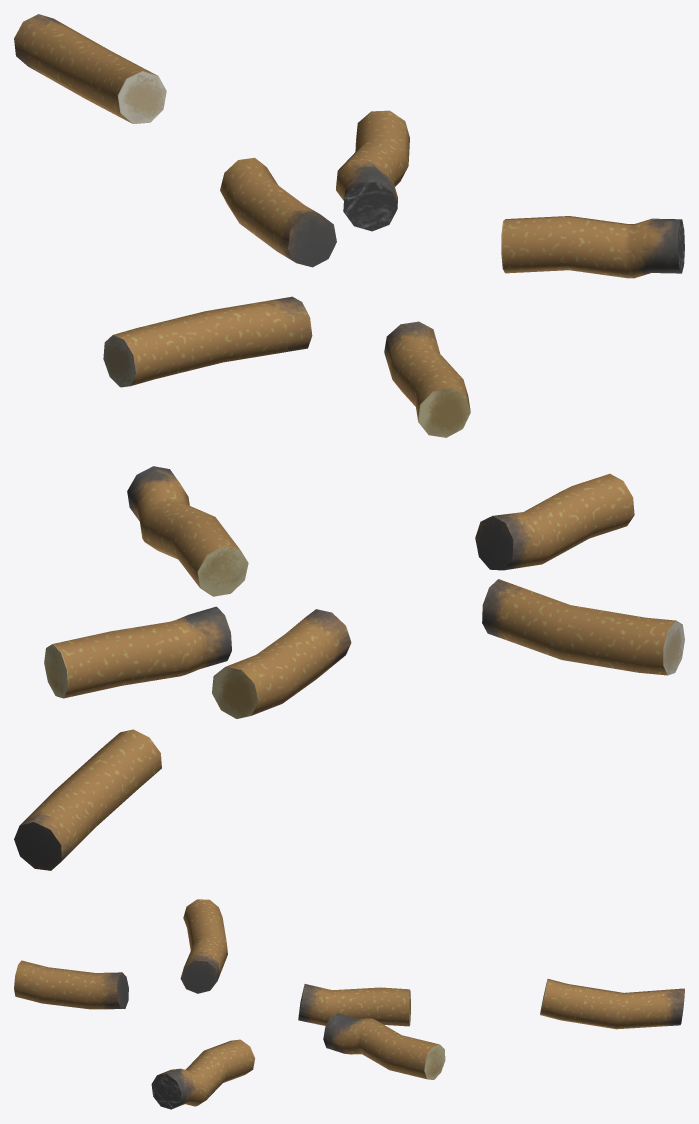
File: SM_Cigarette_Butts.fbx
The picture shows the model from 3 angles, top to bottom: view 1: azimuth 30°, elevation 25°; view 2: azimuth 150°, elevation 25°; view 3: azimuth 270°, elevation 25°; orthographic projection. The views are drawn at different scales.
Parts seen in each view (by area): view 1: SM_Cigarette_Butts_LOD0; view 2: SM_Cigarette_Butts_LOD0; view 3: SM_Cigarette_Butts_LOD0.
Boxes of the visible parts, box(x1,y1,x2,y2) form: SM_Cigarette_Butts_LOD0: box(14, 14, 684, 437); SM_Cigarette_Butts_LOD0: box(14, 466, 684, 870); SM_Cigarette_Butts_LOD0: box(14, 899, 684, 1109).
Size of the model in its own units: 11.16 by 17.18 by 1.33.
